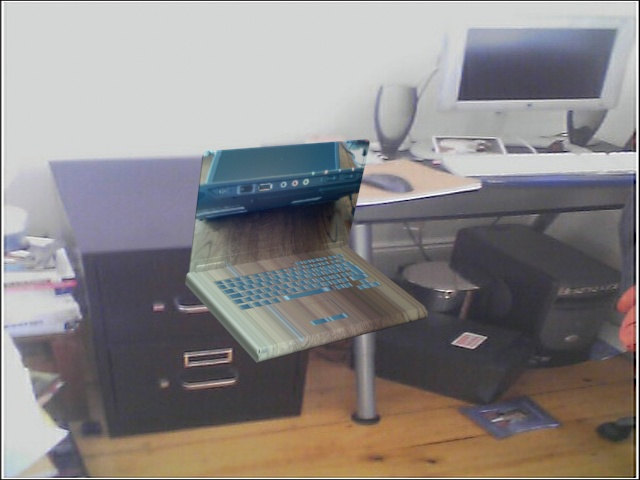laptop_computer: (177, 128, 432, 368)
